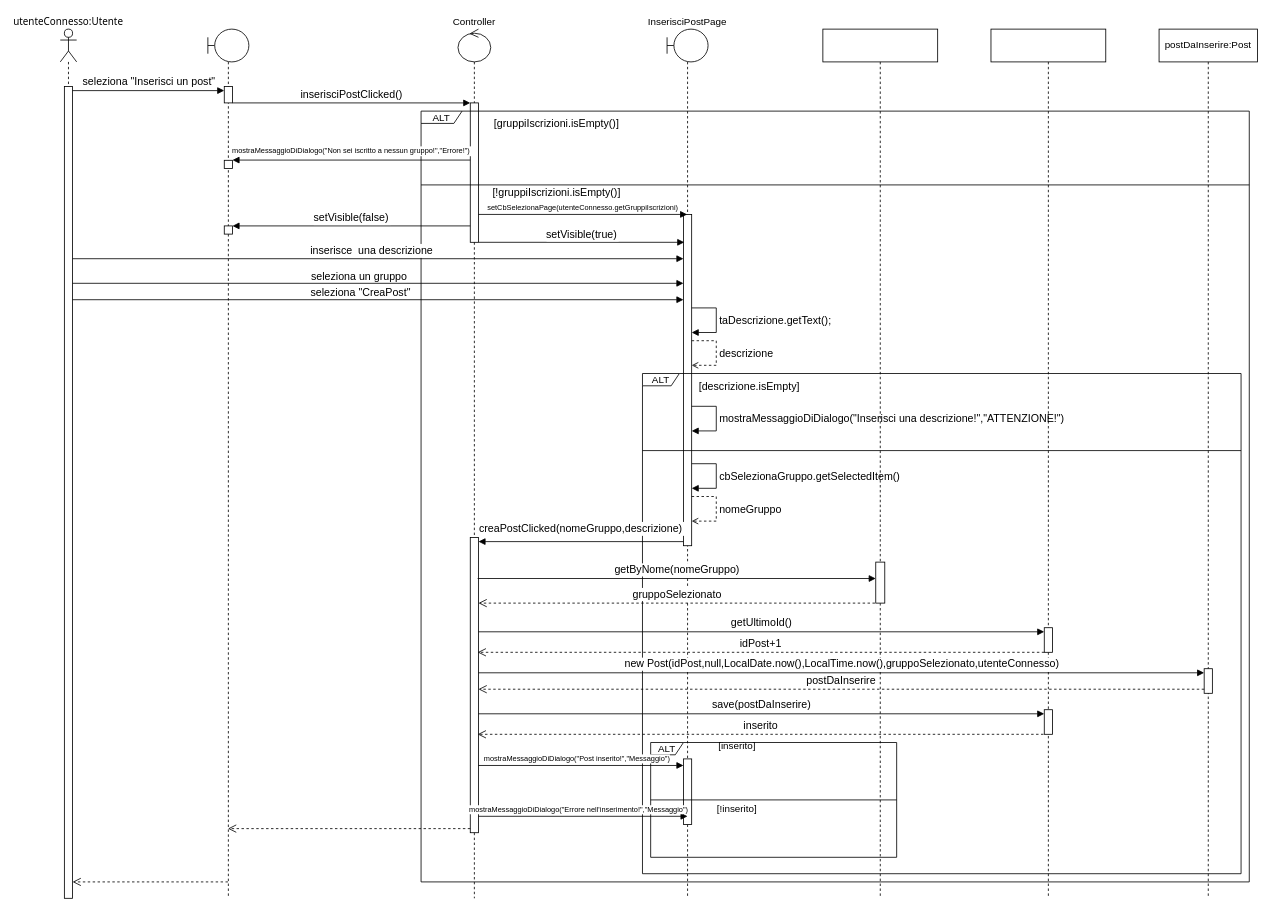
The diagram is 1273 pixels wide and 913 high, and some of its shapes have lost their labels. Each missing label, with the box of its shape:
gruppoDao:GruppoDao: (822, 28, 938, 898)
HomePage: (207, 28, 249, 898)
postDao:PostDao: (990, 28, 1106, 898)
